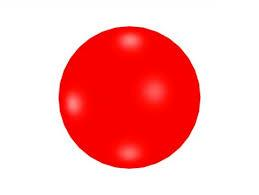red_circle: (49, 18, 209, 178)
